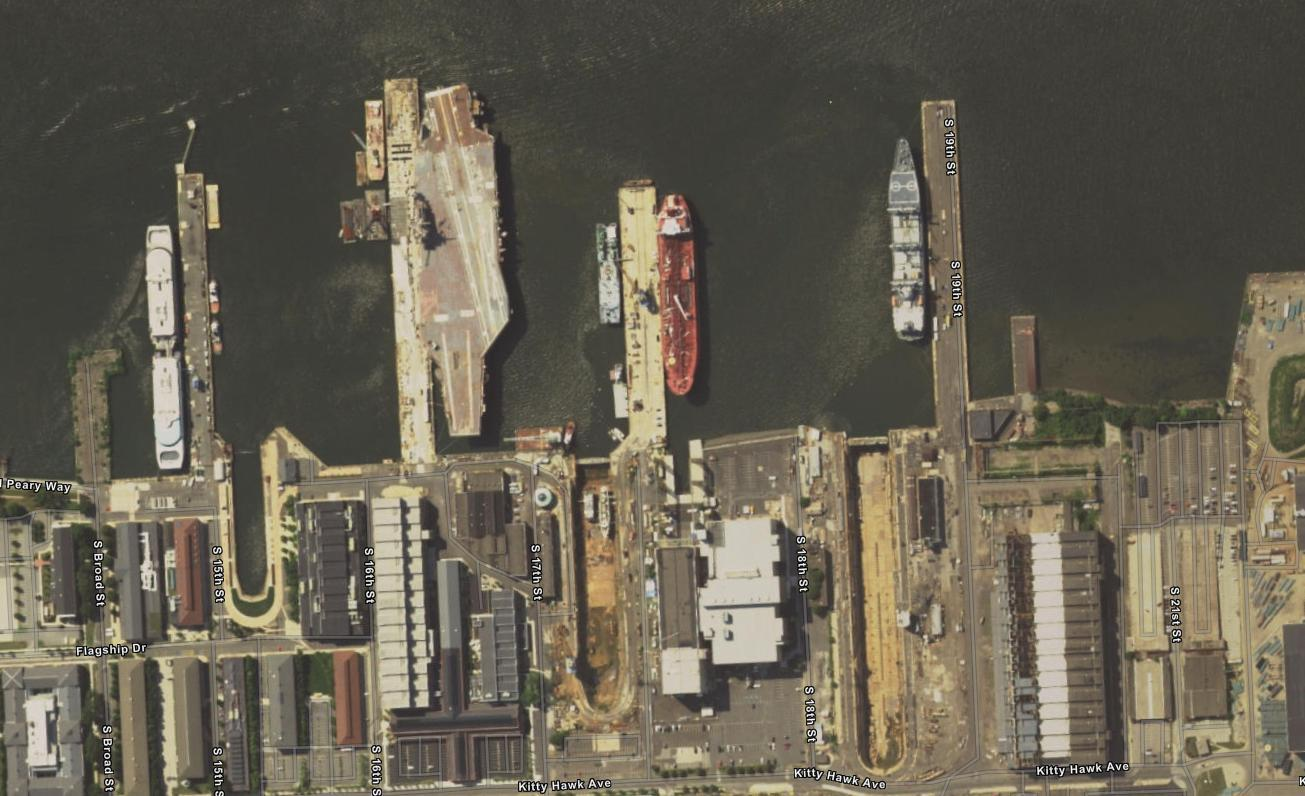carrier: (383, 65, 535, 441)
